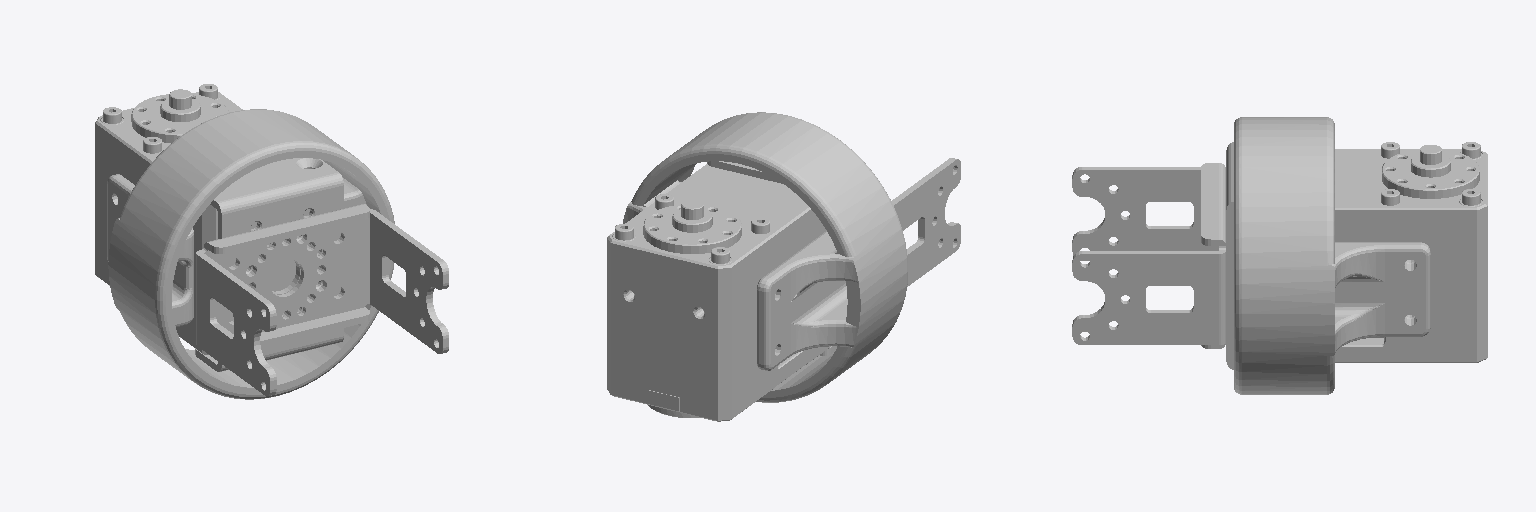
File: link_H_color.obj
The picture shows the model from 3 angles: view 1: azimuth 30°, elevation 25°; view 2: azimuth 150°, elevation 25°; view 3: azimuth 270°, elevation 25°; orthographic projection.
Visible parts, largest first — view 1: 솔리드1:3, 솔리드1:2, 솔리드1, 솔리드1:1; view 2: 솔리드1, 솔리드1:3, 솔리드1:2, 솔리드1:1, 솔리드10; view 3: 솔리드1:3, 솔리드1:2, 솔리드1, 솔리드1:1, 솔리드10.
Boxes of the visible parts, box(x1,y1,x2,y2) form: 솔리드1:3: box(107, 109, 394, 399); 솔리드1:2: box(196, 204, 448, 395); 솔리드1: box(95, 89, 309, 354); 솔리드1:1: box(195, 158, 343, 371); 솔리드1: box(607, 164, 830, 421); 솔리드1:3: box(623, 112, 907, 402); 솔리드1:2: box(891, 158, 960, 286); 솔리드1:1: box(707, 161, 836, 355); 솔리드10: box(775, 350, 807, 386); 솔리드1:3: box(1234, 117, 1430, 394); 솔리드1:2: box(1072, 163, 1225, 348); 솔리드1: box(1335, 145, 1487, 362); 솔리드1:1: box(1226, 142, 1233, 369); 솔리드10: box(1335, 337, 1389, 362).
Size of the model in its own units: 55 by 55 by 82.25.